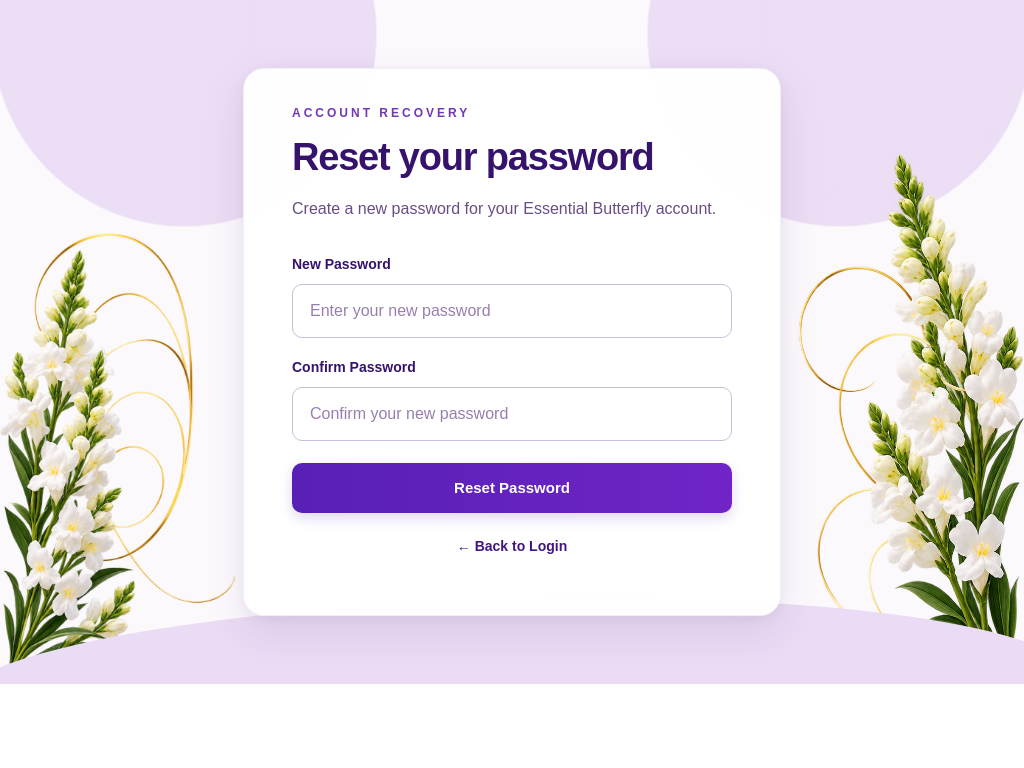
it: ResetPassword › rejects a missing token
Type "Password123" into the password field labelled "New Password".
click(512, 311); type("Password123")  # box [292,284,732,338]
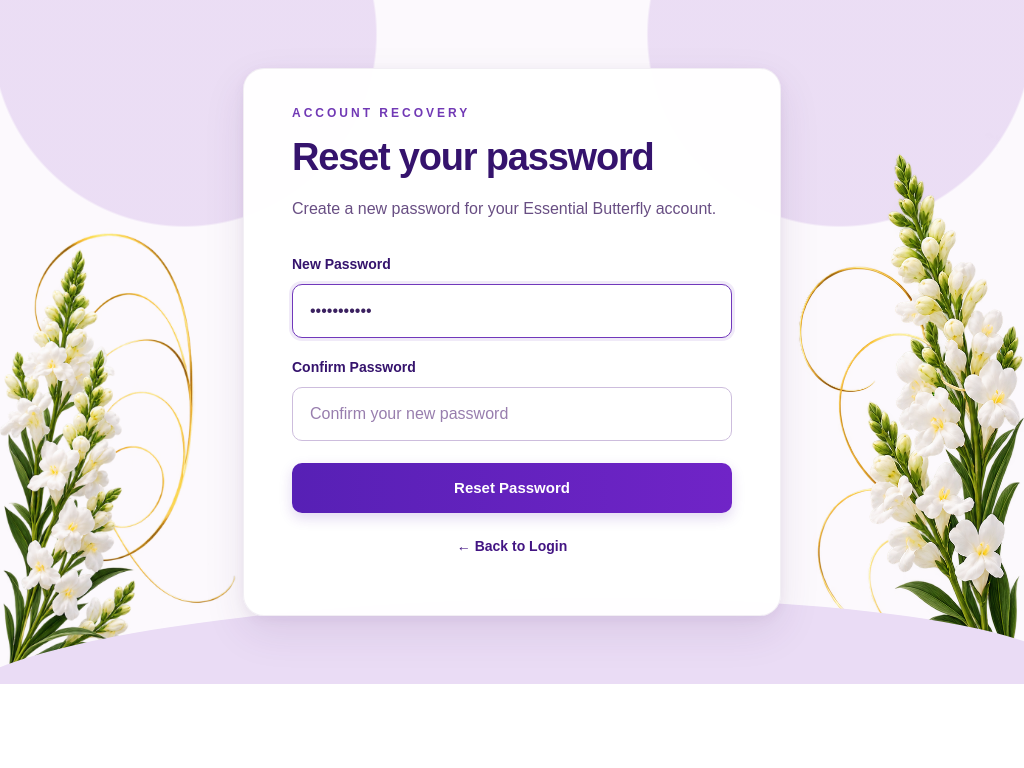
Type "Password123" into the password field labelled "Confirm Password".
click(512, 414); type("Password123")  # box [292,387,732,441]
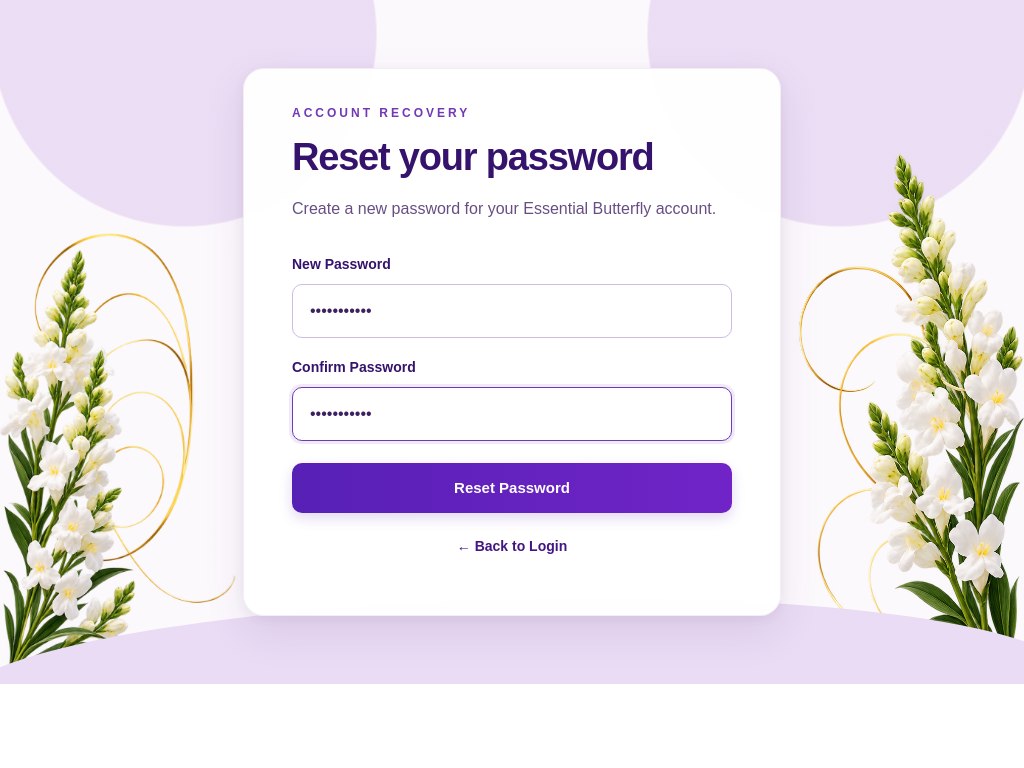
Click the button "Reset Password".
click(512, 488)  # box [292,463,732,513]
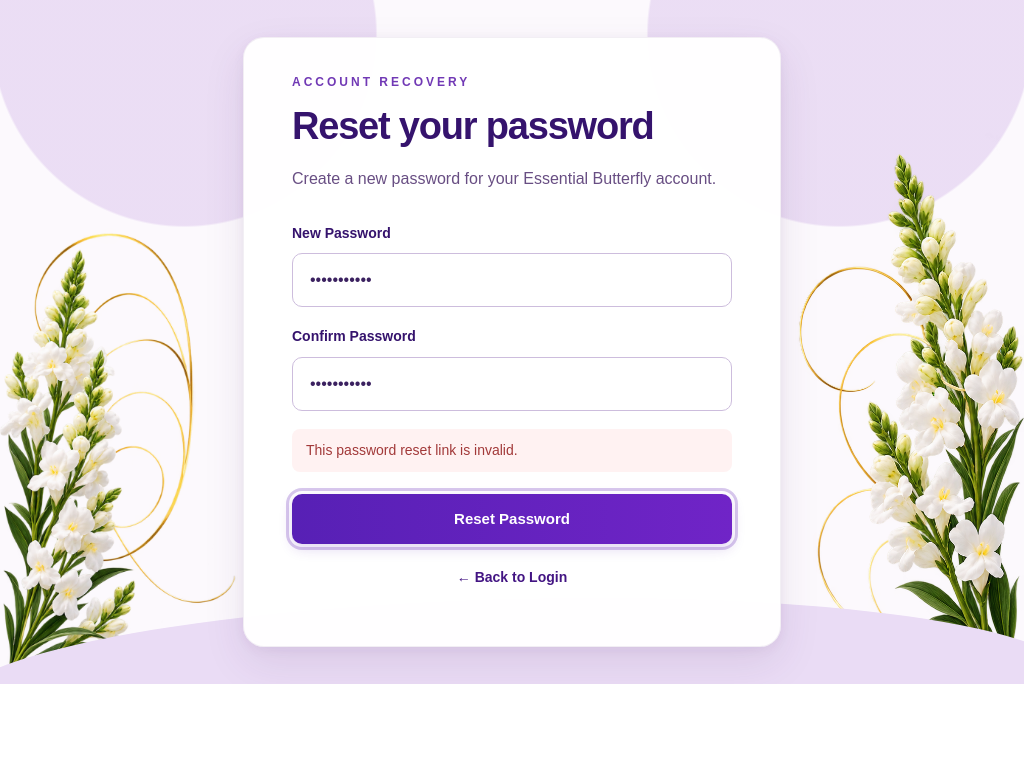
Now the message shows "link is invalid", box [306,442,518,458]
